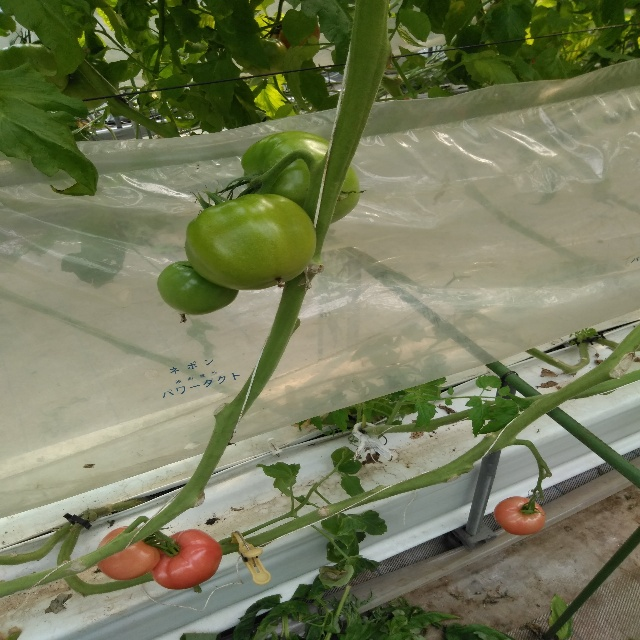b_fully_ripened: (149, 529, 222, 590)
b_green: (185, 193, 316, 291), (241, 131, 361, 229), (157, 260, 239, 316), (0, 43, 70, 94), (63, 57, 120, 109)
b_half_ripened: (96, 526, 160, 581), (494, 496, 545, 536)
